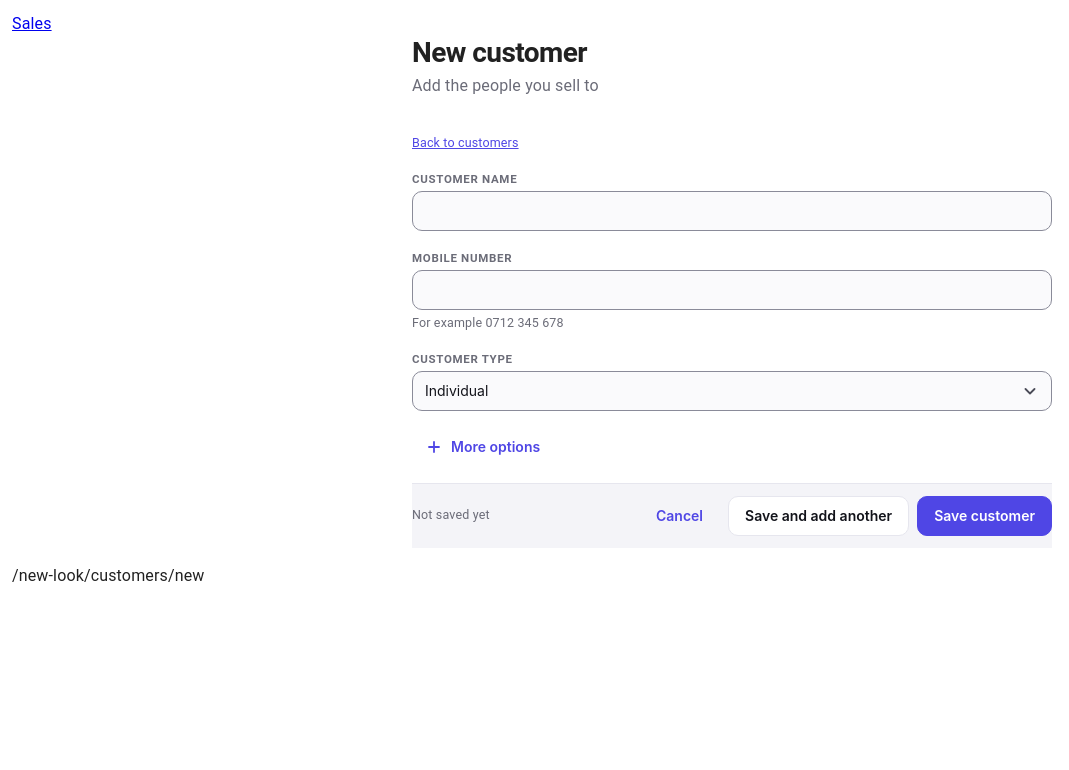
Test: the New customer form (AC-26) › has the till quick-add fields: name, mobile, type, and under More options the email and KRA PIN
Expected: the heading "New customer" is shown, x1=412 y1=36 x2=599 y2=70
Expected: the field labelled "Customer name" is shown, x1=413 y1=192 x2=1051 y2=230
Click the button "More options" at (483, 447), box x1=412 y1=431 x2=553 y2=463
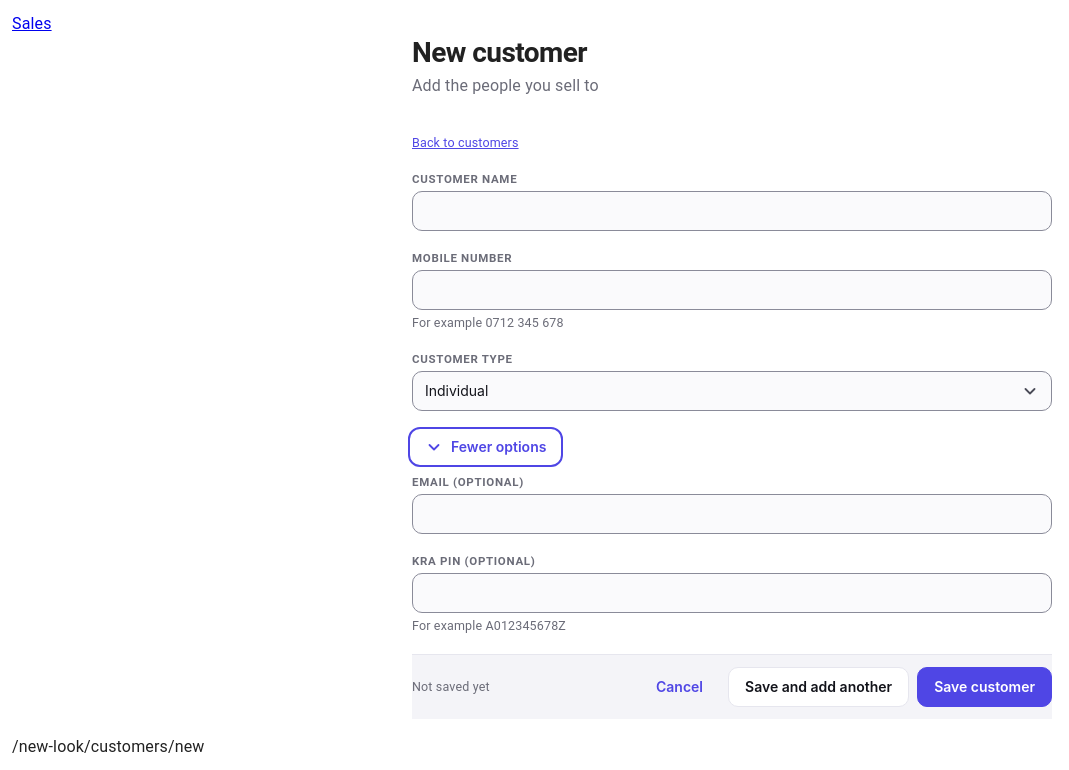
Expected: the field labelled "Email (optional)" is shown, x1=413 y1=495 x2=1051 y2=533
Expected: the field labelled "KRA PIN (optional)" is shown, x1=413 y1=574 x2=1051 y2=612
